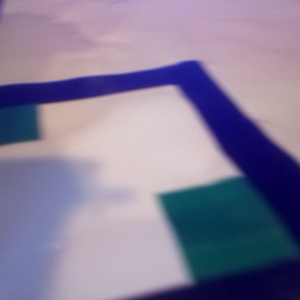bottom_right: (1, 83, 39, 146)
top_left: (159, 177, 300, 300)
